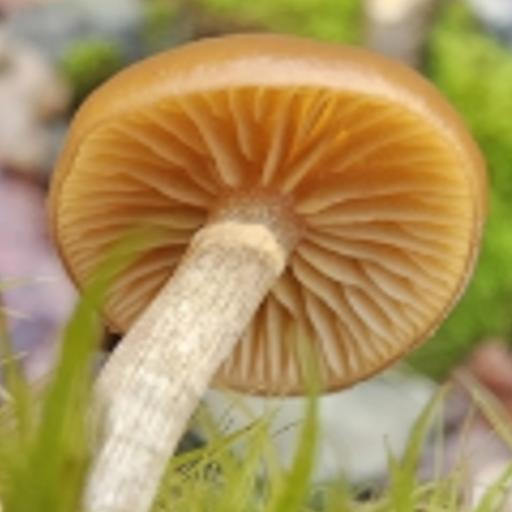mushroom: (34, 19, 495, 434)
